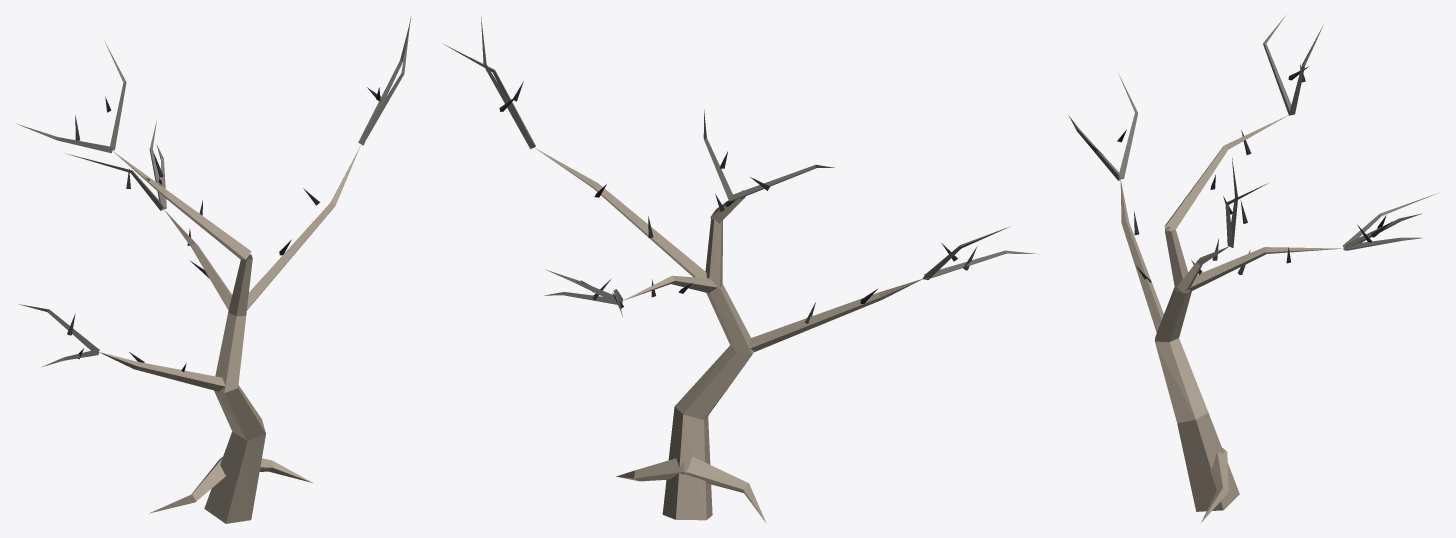
File: Circle7Piece_Tree11.obj
3 renders of one model, left to right at view 1: azimuth 30°, elevation 25°; view 2: azimuth 150°, elevation 25°; view 3: azimuth 270°, elevation 25°, orthographic. The views are drawn at different scales.
Parts seen in each view (by area): view 1: Circle7Piece_Tree11; view 2: Circle7Piece_Tree11; view 3: Circle7Piece_Tree11.
Part boxes in pixels (box(x1,y1,x2,y2)): Circle7Piece_Tree11: box(16, 16, 410, 523); Circle7Piece_Tree11: box(442, 16, 1039, 522); Circle7Piece_Tree11: box(1068, 15, 1439, 522).
Size of the model in its own units: 7.31 by 6.7 by 5.05.
Materials: 1 (1 with a texture image).
